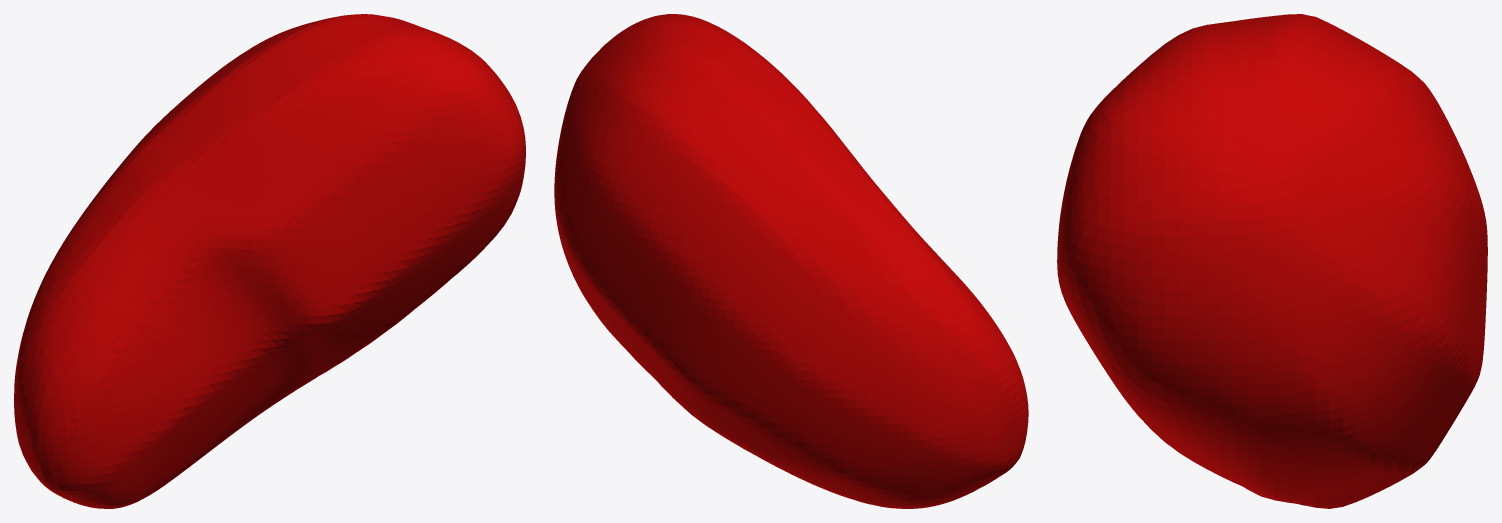
File: hand_part_15.glb
The picture shows the model from 3 angles, left to right: view 1: azimuth 30°, elevation 25°; view 2: azimuth 150°, elevation 25°; view 3: azimuth 270°, elevation 25°; orthographic projection. The views are drawn at different scales.
Size of the model in its own units: 0.0331 by 0.0282 by 0.0183.
